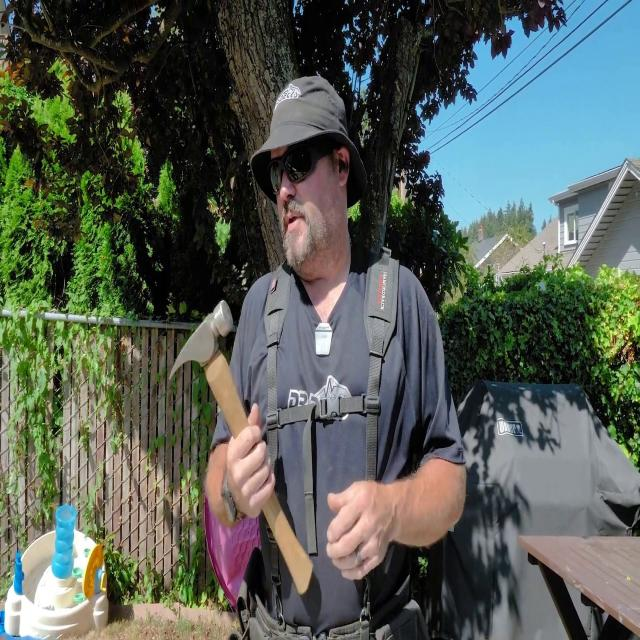hammer: (170, 300, 313, 597)
